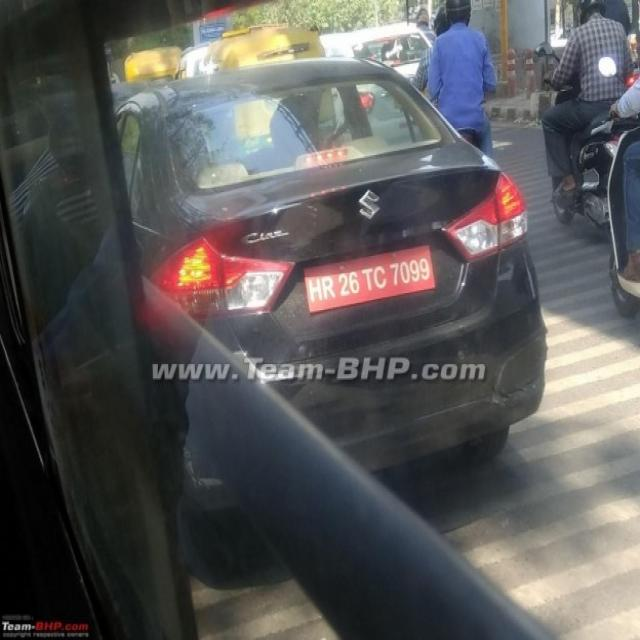license-plate: (301, 240, 436, 313)
